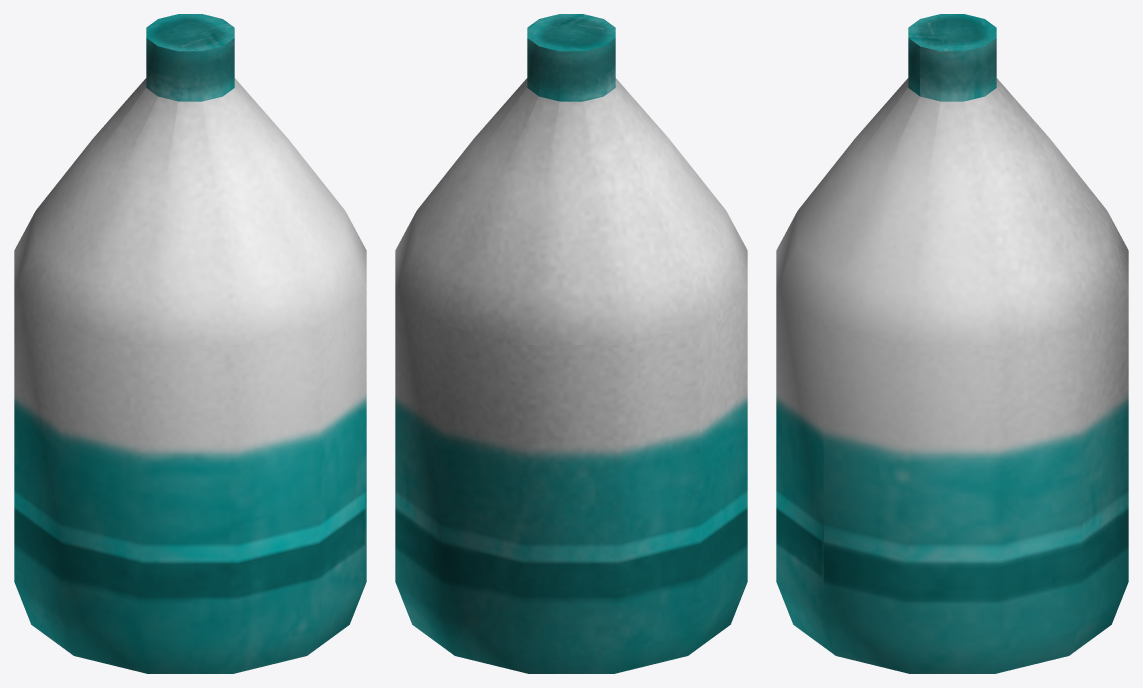
File: oilcan.obj
3 views of the same model, side by side, from view 1: azimuth 30°, elevation 25°; view 2: azimuth 150°, elevation 25°; view 3: azimuth 270°, elevation 25° (orthographic).
Visible parts, largest first — view 1: OilCan1; view 2: OilCan1; view 3: OilCan1.
Boxes of the visible parts, x1,y1,x2,y2 form: OilCan1: (14, 14, 366, 673); OilCan1: (395, 14, 747, 673); OilCan1: (776, 14, 1128, 673).
Size of the model in its own units: 0.3123 by 0.5614 by 0.3123.
